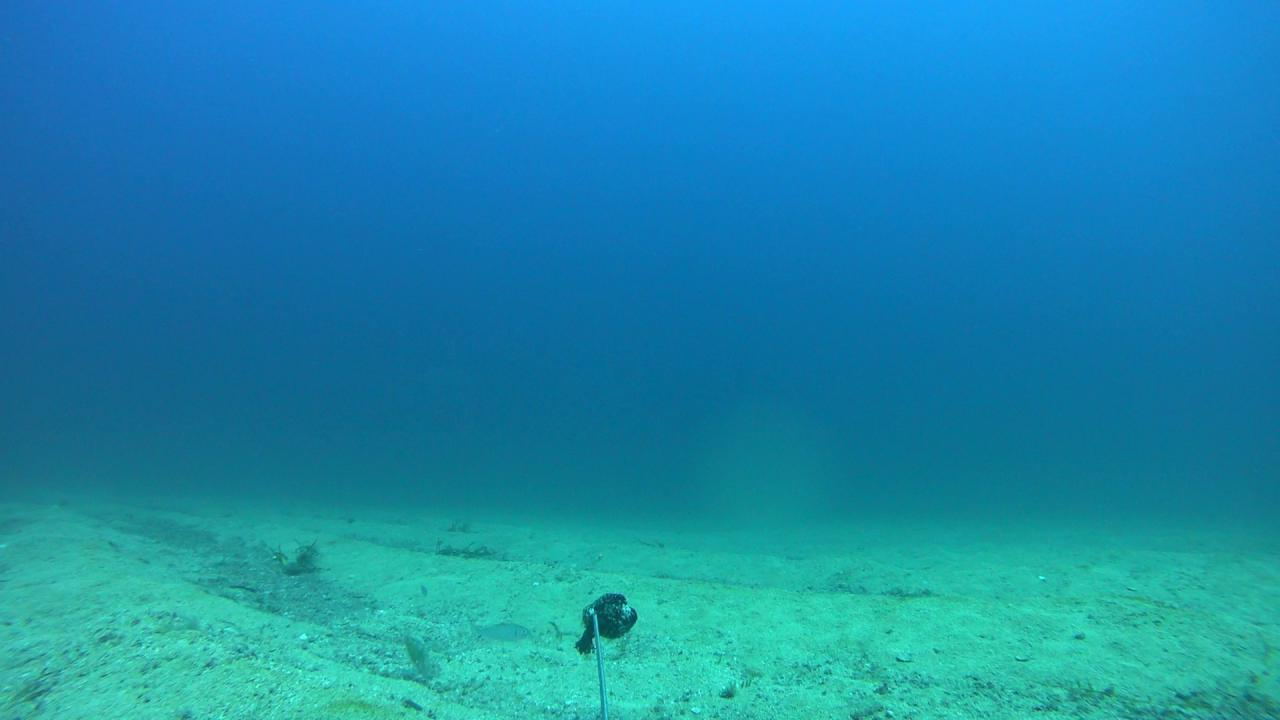pagellus: (467, 622, 532, 644)
